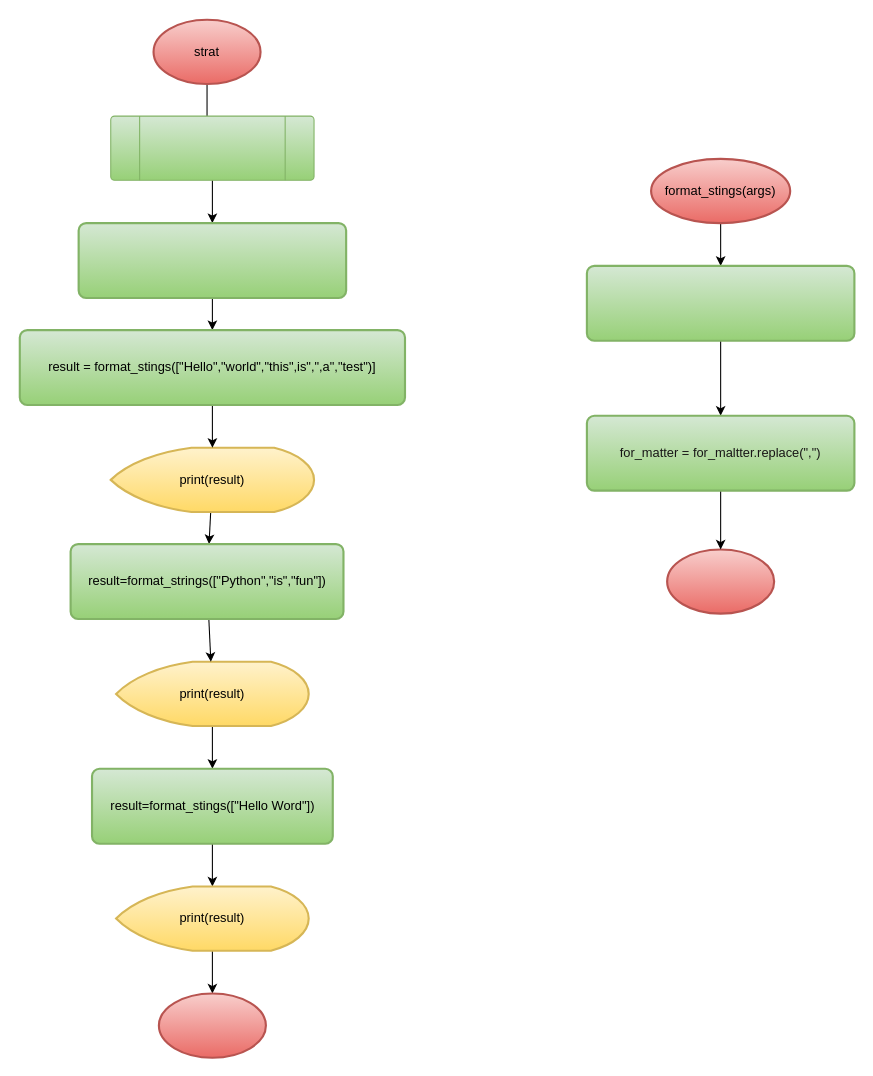
The diagram is 873 pixels wide and 1076 high, and some of its shapes have lost their labels. The centre of each missing label's shape, as x and y in pixels:
end: pixel 211 1025
for_matter =" join(str(arg).upper() for arg in args):: pixel 720 302
format_strings('args): pixel 212 147
if_name_=='_main_':: pixel 212 260
return for_matter: pixel 720 581
